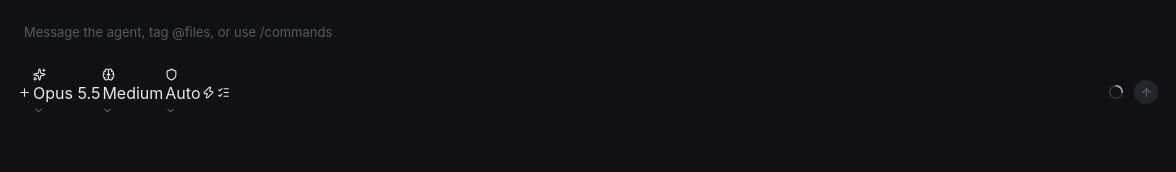
Test: AcpPromptBox › Tab into a directory lists its entries
In the text box: (588, 40) [12,12,1164,68], type "@sr"
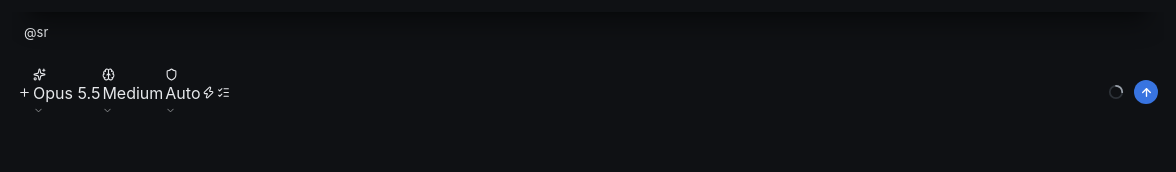
Press Tab
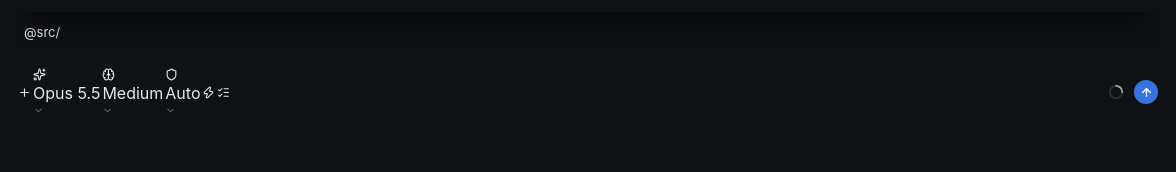
Now the text box holds "@src/"
In the text box: (588, 40) [12,12,1164,68], type "m"
Then press Tab
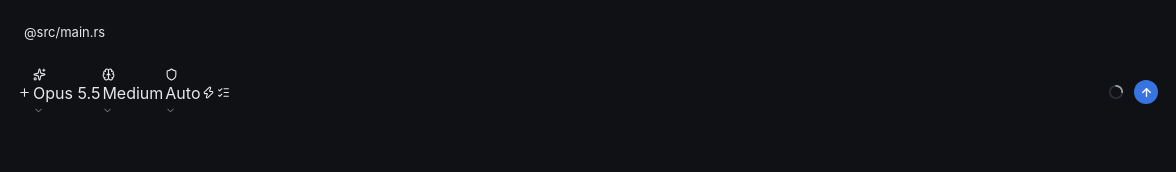
Now the text box holds "@src/main.rs ", box [12,12,1164,68]
